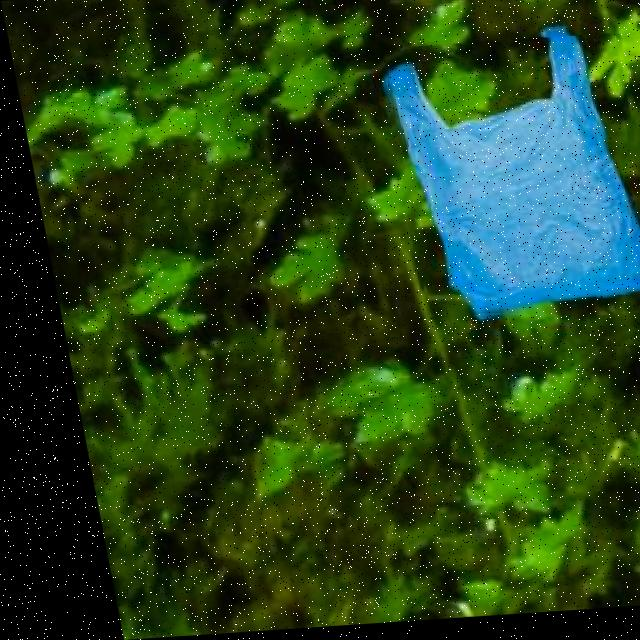litter: (381, 42, 640, 320)
